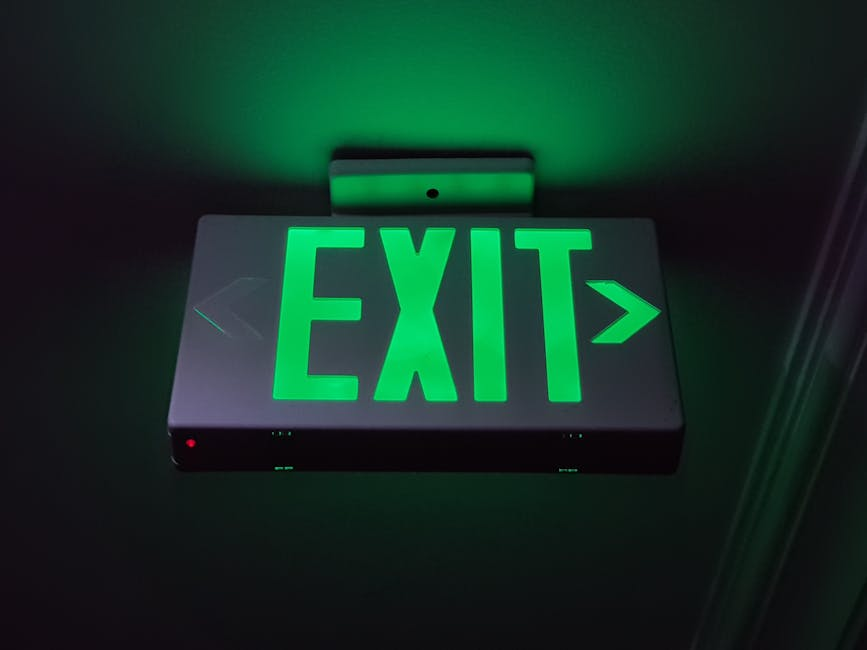emergency_exit: (165, 150, 687, 476), (166, 208, 686, 475)
